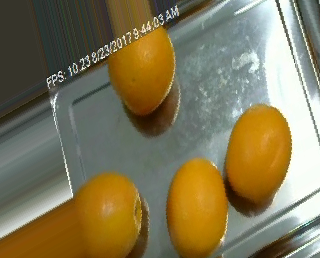Orange: (225, 103, 293, 203), (166, 158, 229, 257)
